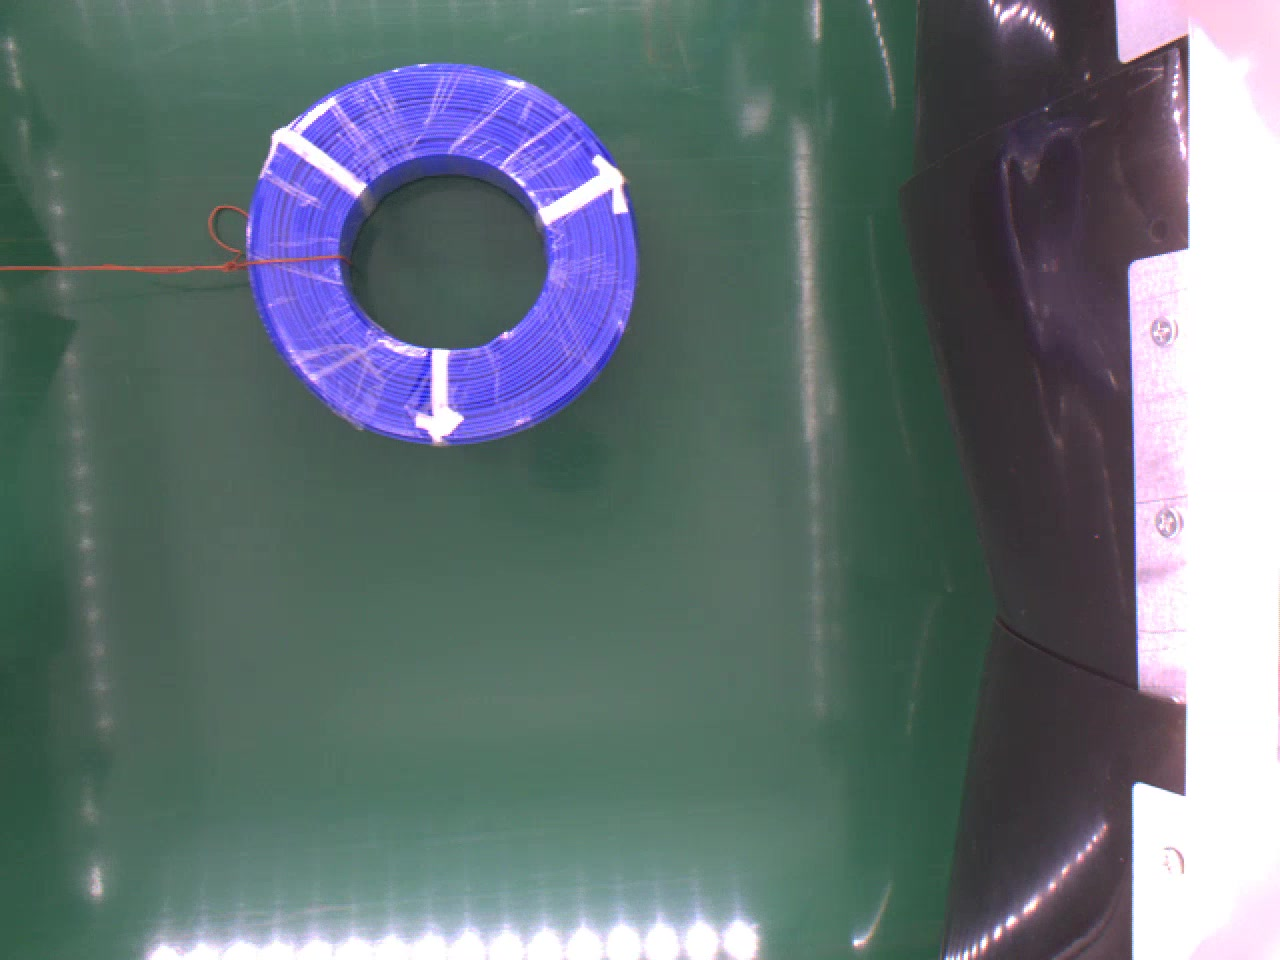blue: (246, 58, 645, 452)
